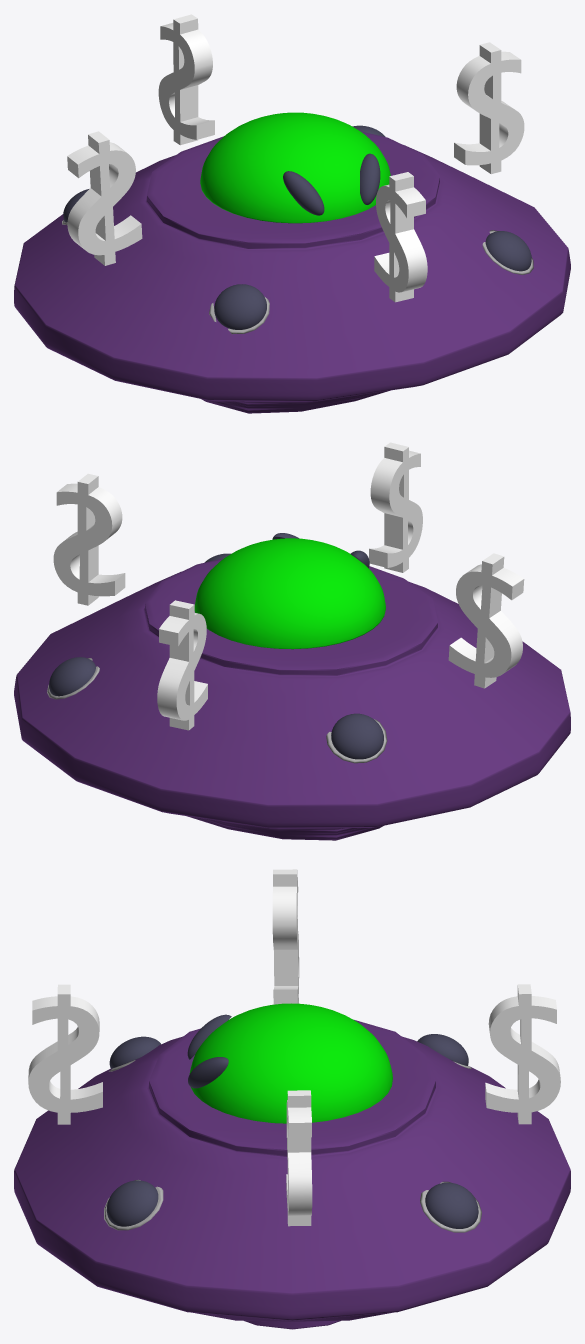
Rendered from ufoCoin.fbx.
3 renders of one model, top to bottom at view 1: azimuth 30°, elevation 25°; view 2: azimuth 150°, elevation 25°; view 3: azimuth 270°, elevation 25°, orthographic. The views are drawn at different scales.
Parts seen in each view (by area): view 1: typeMesh5; view 2: typeMesh5; view 3: typeMesh5.
Part boxes in pixels (bbox=[...]): typeMesh5: bbox=[14, 14, 570, 413]; typeMesh5: bbox=[14, 442, 570, 840]; typeMesh5: bbox=[14, 869, 570, 1329].
Size of the model in its own units: 9.44 by 5.43 by 8.63.
